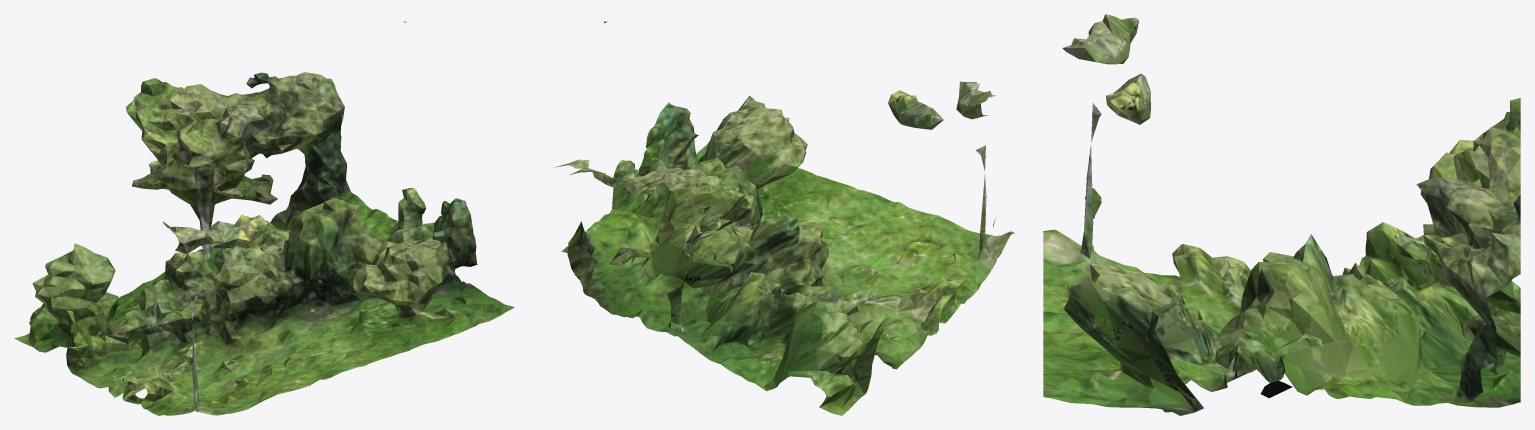
The picture shows the model from 3 angles, left to right: view 1: azimuth 30°, elevation 25°; view 2: azimuth 150°, elevation 25°; view 3: azimuth 270°, elevation 25°; orthographic projection. The views are drawn at different scales.
Bounding box in the file's own units: 26.11 × 23.09 × 26.11.
5 materials, 5 textured.
